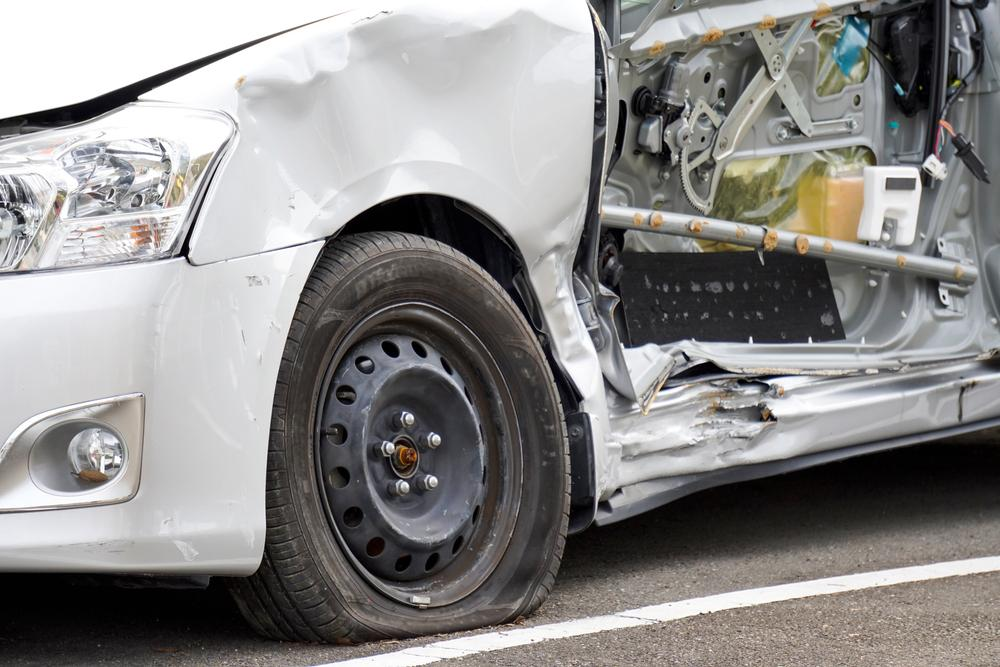crack: (708, 373, 780, 424)
dent: (204, 9, 601, 392), (628, 412, 816, 466)
scratch: (88, 503, 228, 561), (225, 273, 290, 374)
tire flat: (231, 232, 572, 645)
